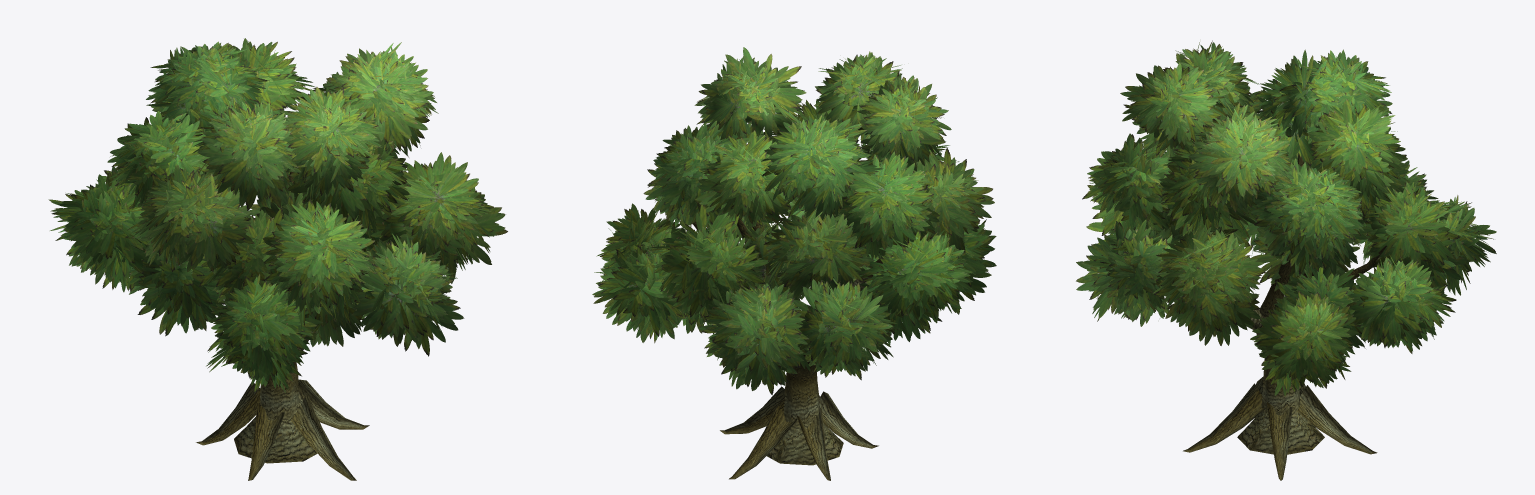
File: mm6_deco_cac25.glb
3 renders of one model, left to right at view 1: azimuth 30°, elevation 25°; view 2: azimuth 150°, elevation 25°; view 3: azimuth 270°, elevation 25°, orthographic. The views are drawn at different scales.
Parts seen in each view (by area): view 1: Tree; view 2: Tree; view 3: Tree.
Boxes of the visible parts, <box> form: Tree: <box>48,38,507,480</box>; Tree: <box>592,47,996,480</box>; Tree: <box>1076,40,1496,480</box>.
Size of the model in its own units: 3.8 by 3.47 by 3.64.
2 materials, 2 textured.
